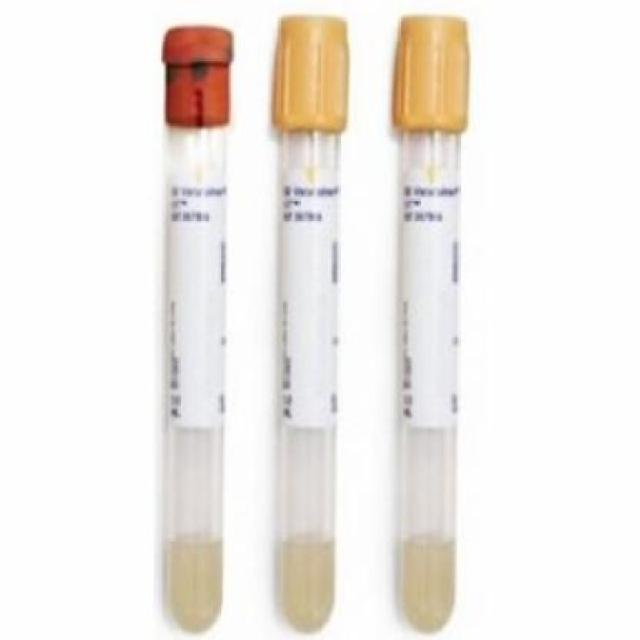Experimental-tube: (392, 11, 470, 635), (272, 14, 350, 628), (160, 21, 234, 634)
